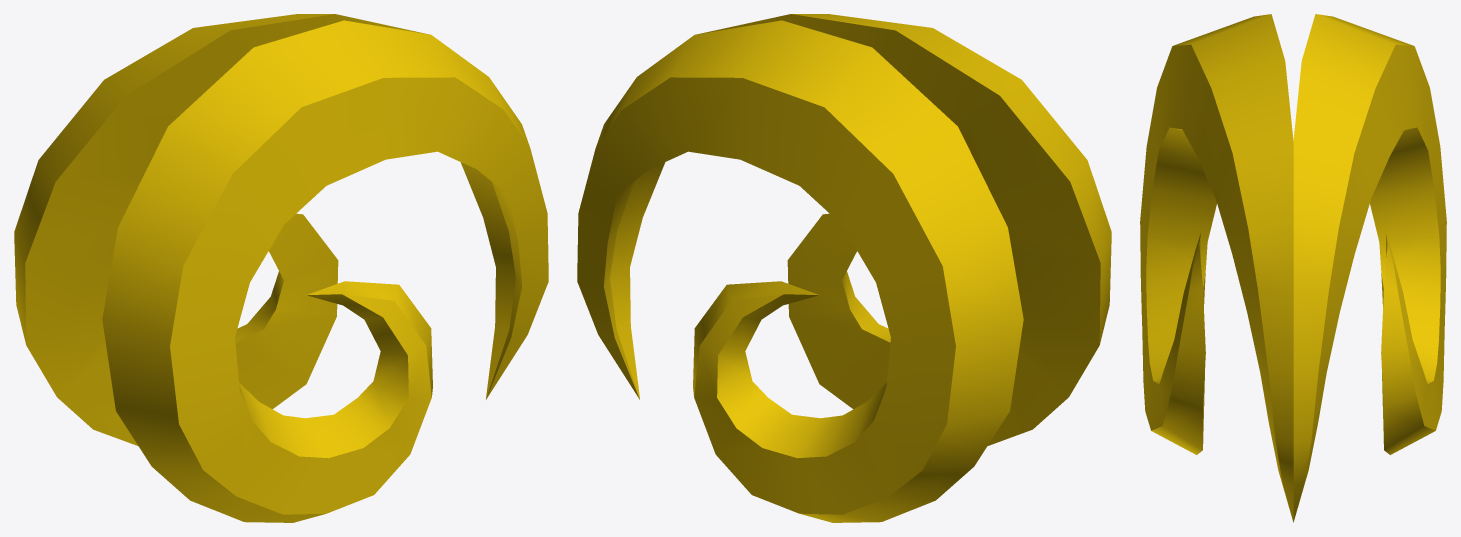
File: Hexagon_Gold_1.fbx
3 views of the same model, side by side, from view 1: azimuth 30°, elevation 25°; view 2: azimuth 150°, elevation 25°; view 3: azimuth 270°, elevation 25° (orthographic). The views are drawn at different scales.
Parts seen in each view (by area): view 1: polySurface13; view 2: polySurface13; view 3: polySurface13.
Part boxes in pixels (x1,y1,x2,y2): polySurface13: (14,14,548,522); polySurface13: (577,14,1111,522); polySurface13: (1140,14,1446,522).
Size of the model in its own units: 29.83 by 26.34 by 17.39.
